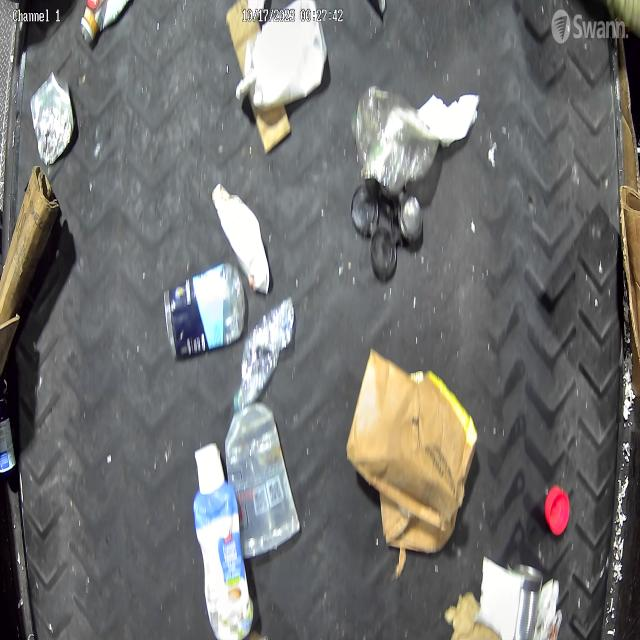can: (30, 72, 74, 165), (506, 562, 544, 640)
milk_jug: (250, 0, 327, 111)
plastic_bottle: (236, 292, 298, 413)
